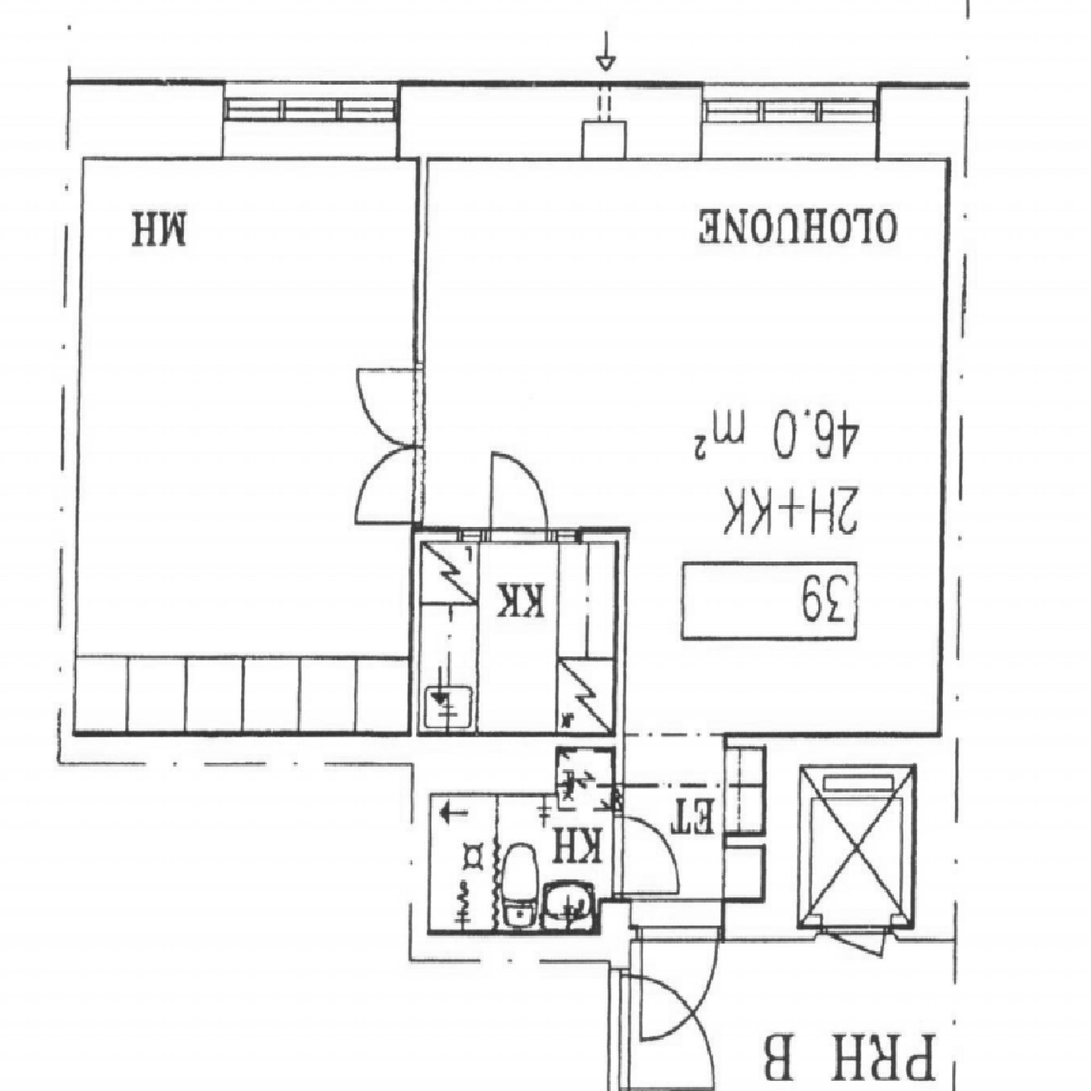wall: (59, 79, 582, 157), (624, 79, 965, 157), (940, 80, 965, 762), (58, 732, 429, 764), (59, 79, 76, 764), (600, 900, 801, 949), (429, 732, 556, 794), (765, 732, 801, 949), (410, 929, 630, 962), (411, 80, 421, 732), (765, 732, 965, 762), (411, 733, 429, 962), (410, 527, 625, 542), (614, 527, 625, 748), (600, 900, 630, 963), (613, 747, 625, 900), (582, 79, 624, 120), (723, 832, 801, 846), (556, 732, 625, 747), (723, 732, 765, 746)
